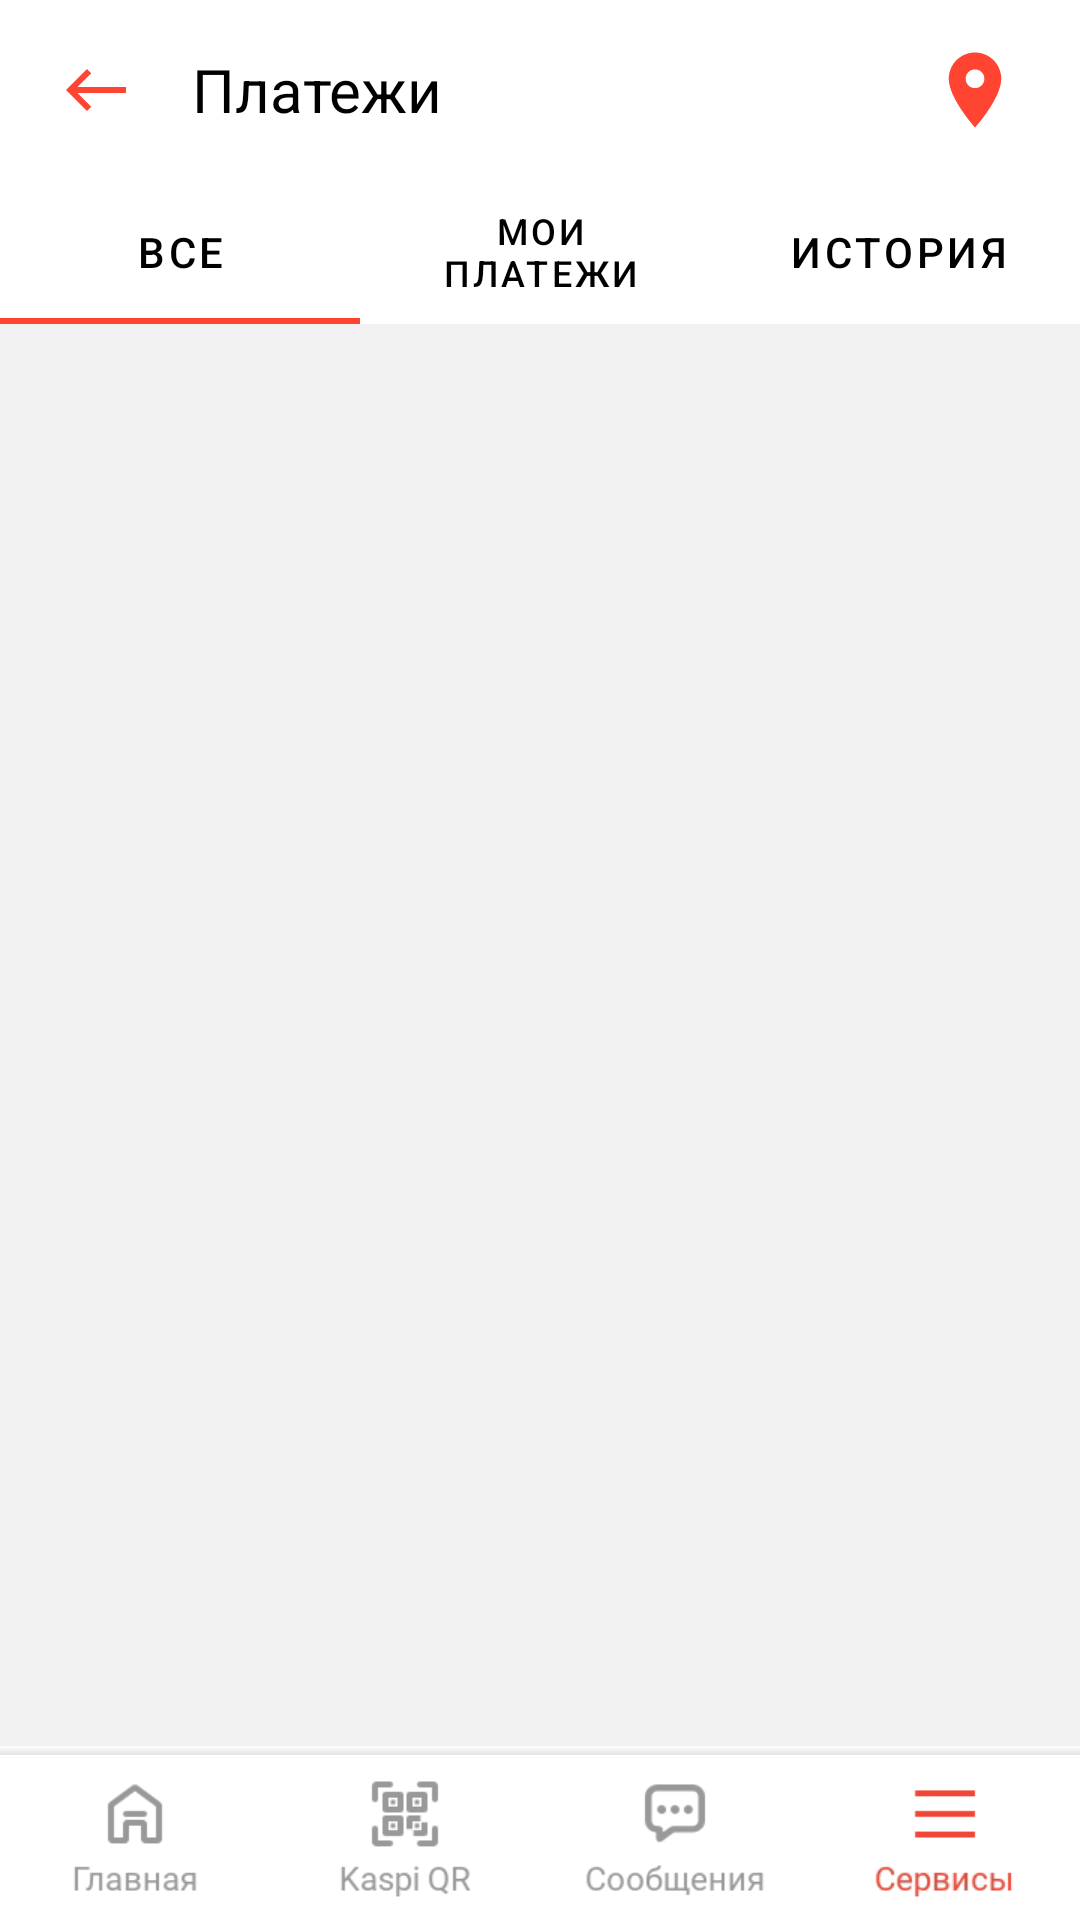

Locate icon controls on the screen. Image size 1080px×1920px, boxes as (x1, y1, x2, y2).
kaspi location fake: (948, 52, 1002, 127)
